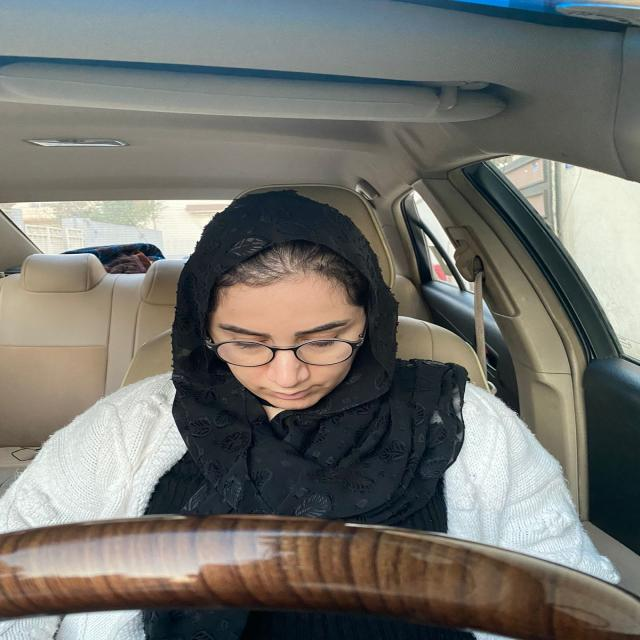drowsy: (175, 210, 388, 422)
